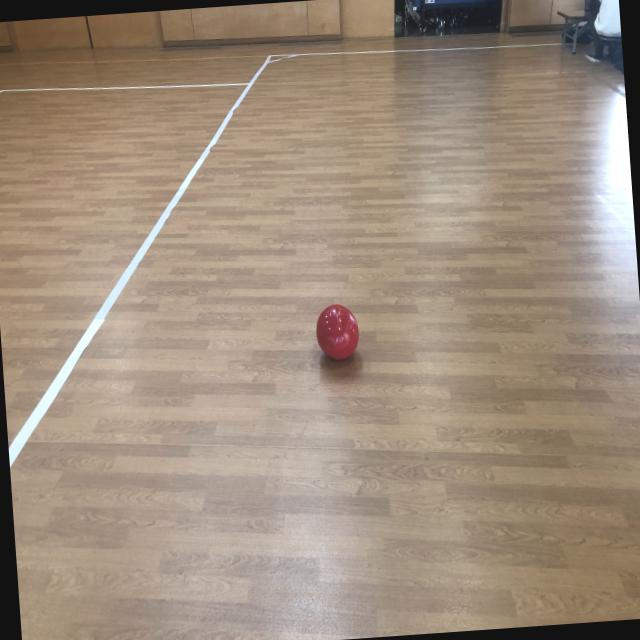red_ball: (314, 302, 362, 363)
